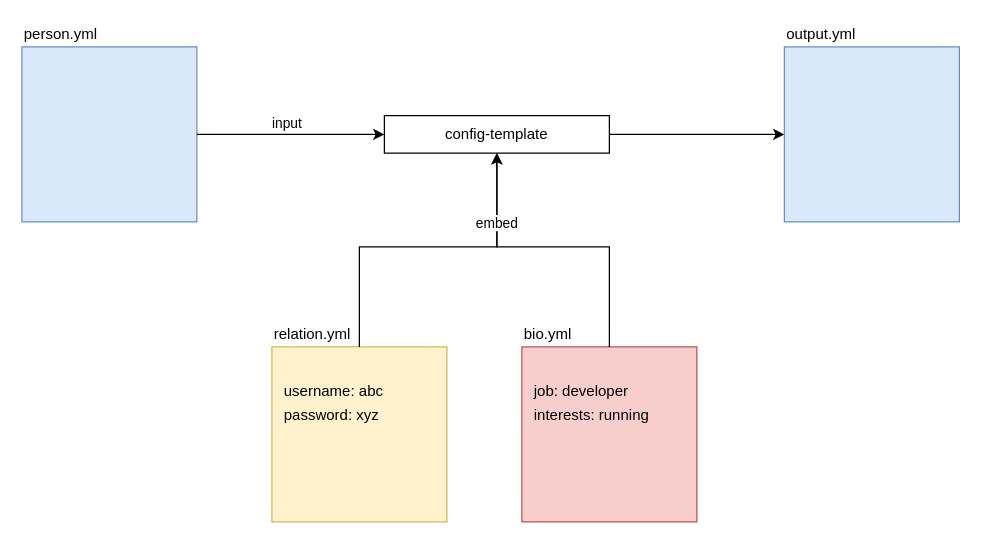
The diagram is 981 pixels wide and 544 high, and some of its shapes have lost their labels. Each missing label, with the centre of its shape:
name: thuc username: abc password: xyz job: developer interests: running: (871,134)
name: thuc {{file "./bio.yml"}} {{file "./secrets.yml"}}: (109,134)
